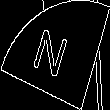N_S: (33, 24, 77, 86)
